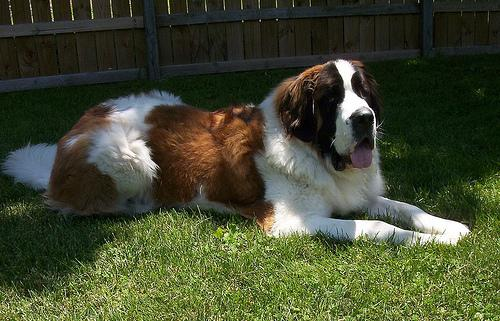dog-saint_bernard: (278, 59, 379, 167)
